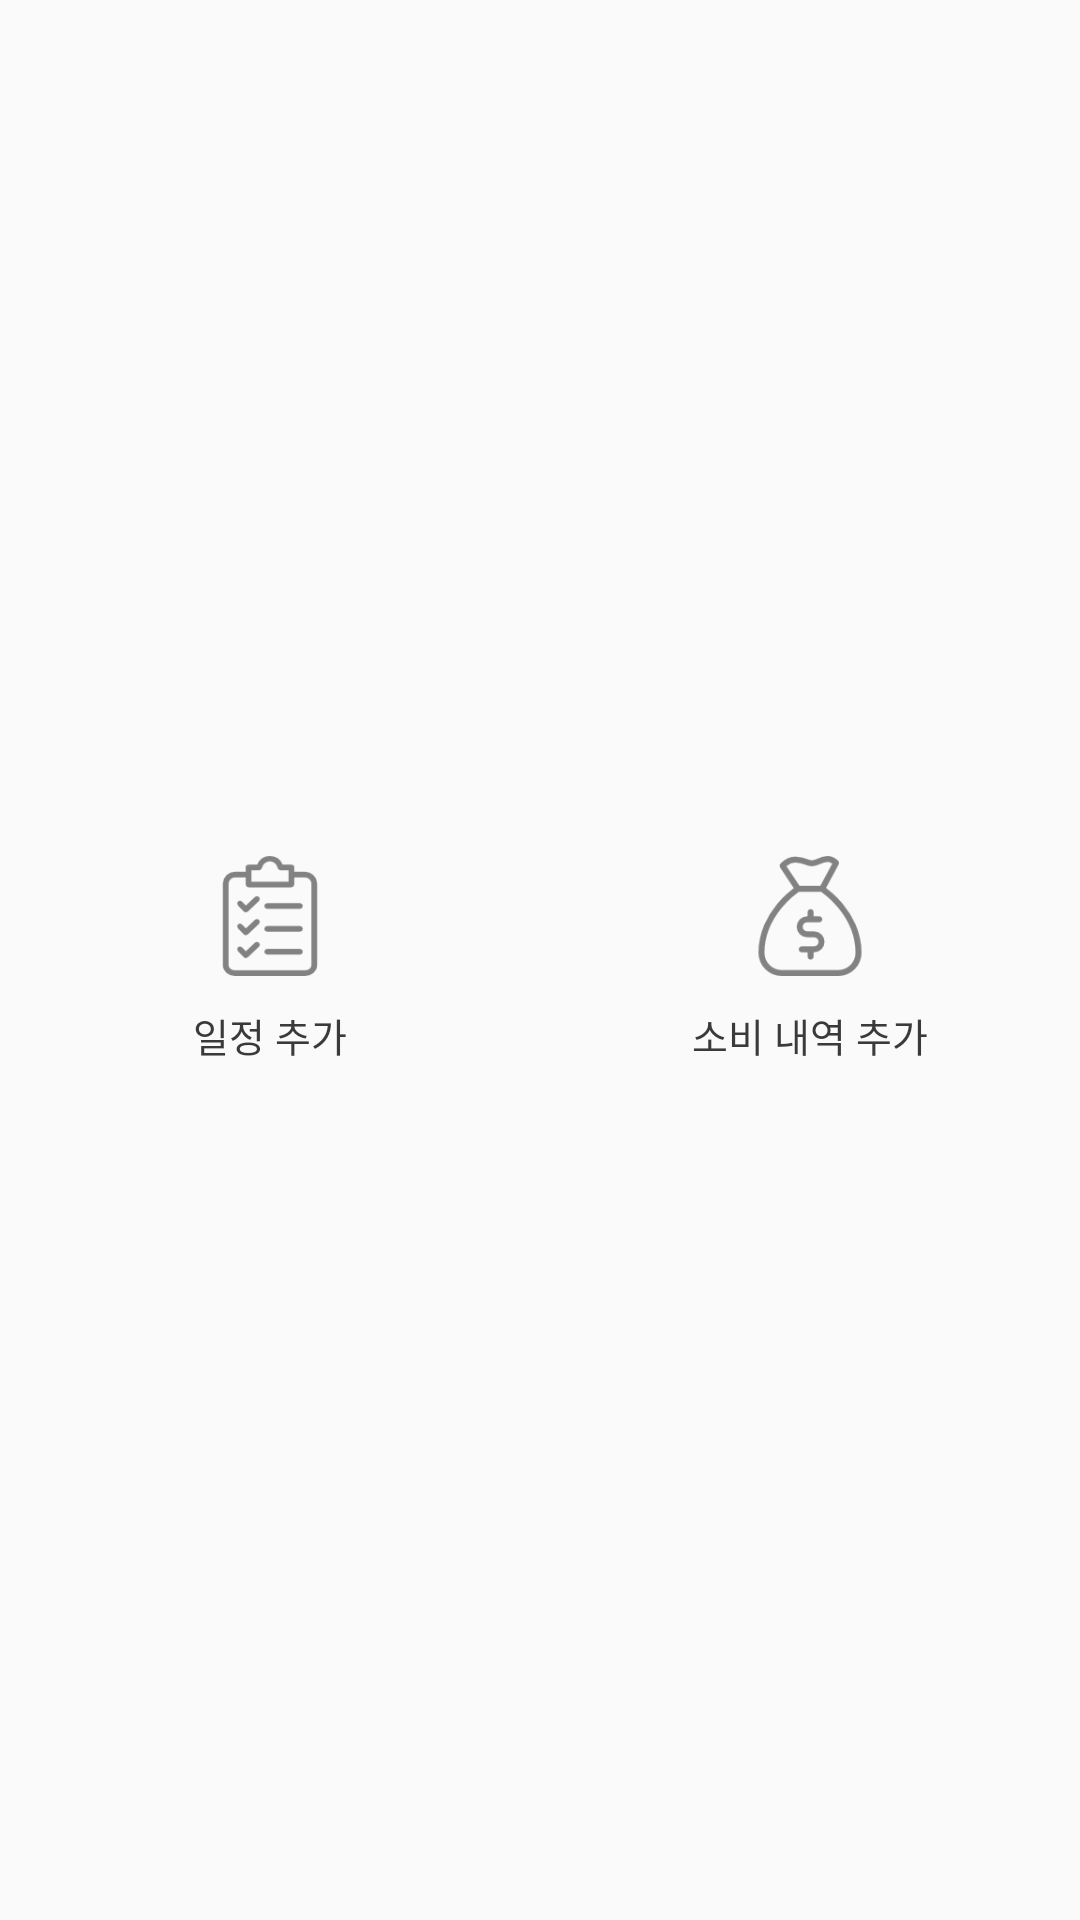

Where icons sit on this 1080 x 1920 app screen, as BBox(x1, y1, x2, y2):
money: BBox(758, 856, 862, 976)
todo: BBox(222, 856, 318, 976)
